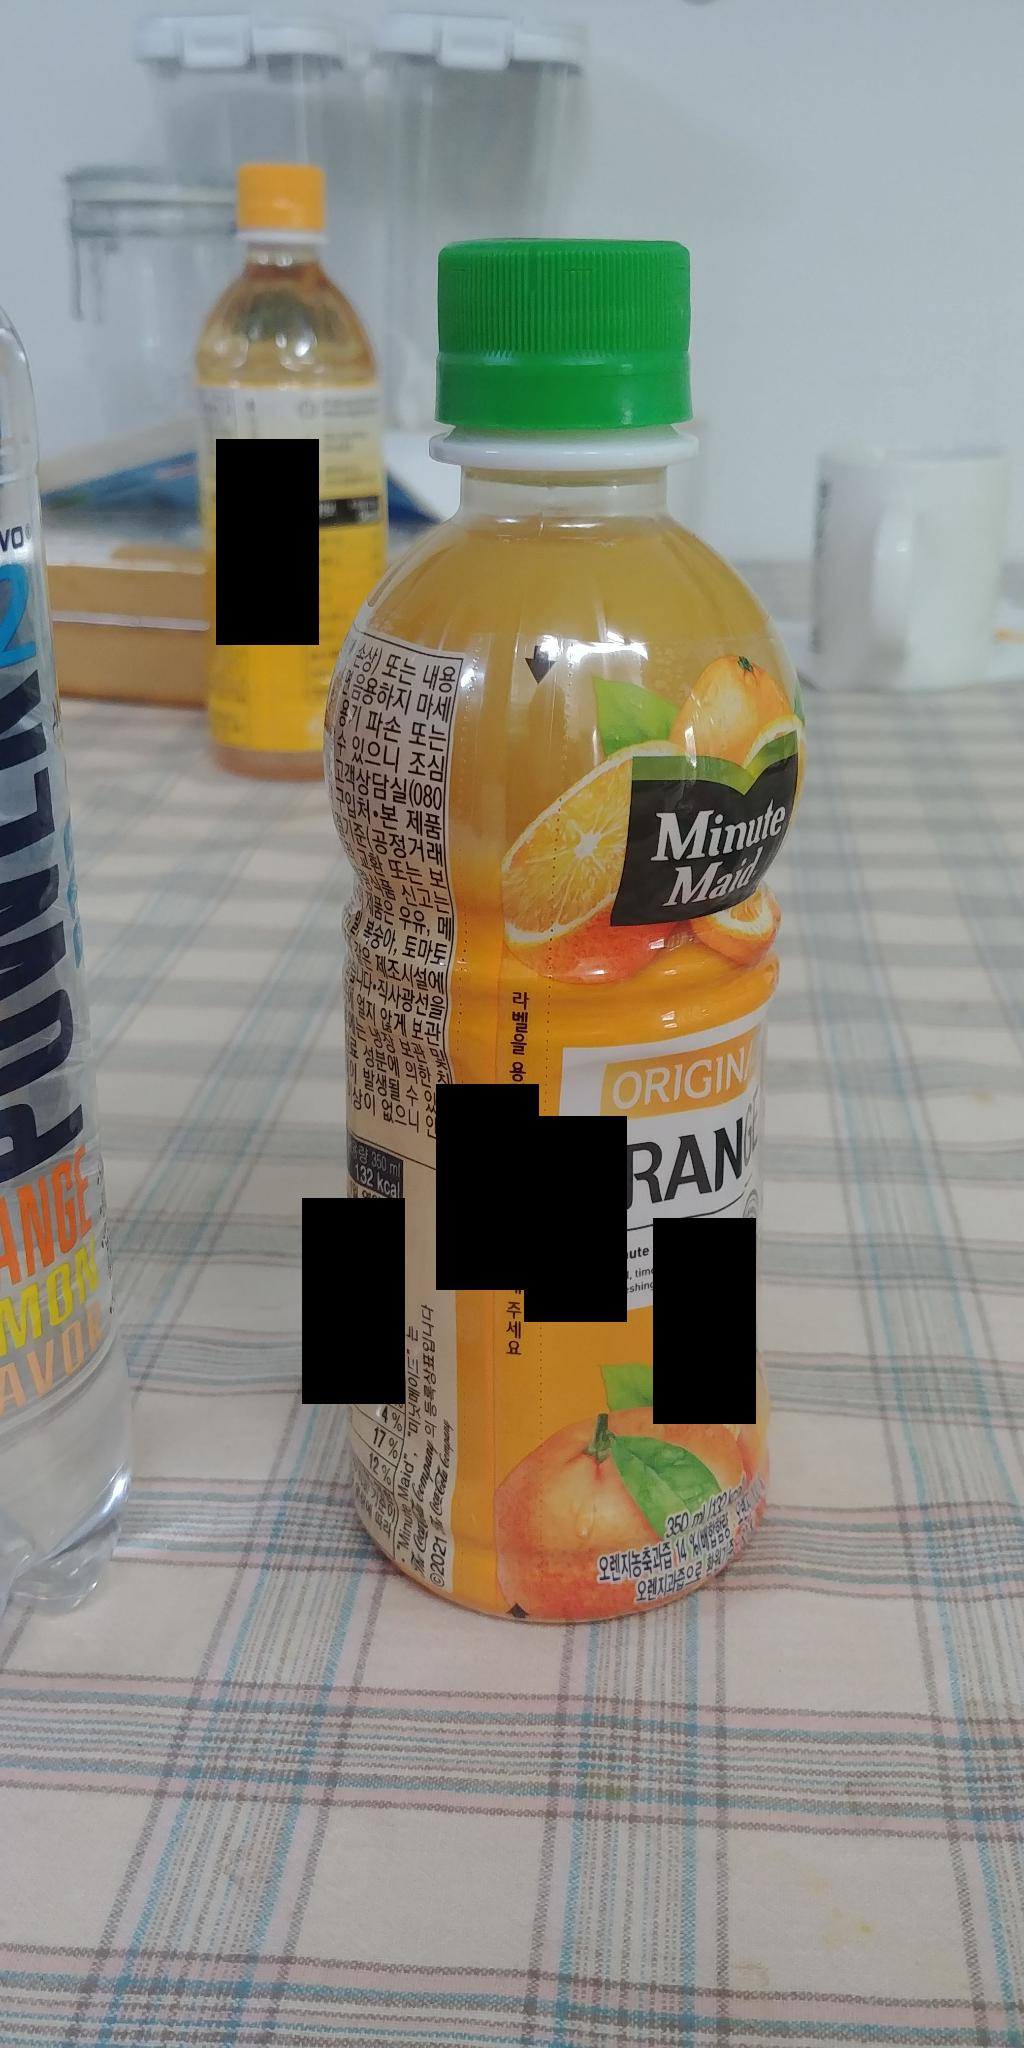minutemaid_org_orange: (319, 231, 789, 1621)
